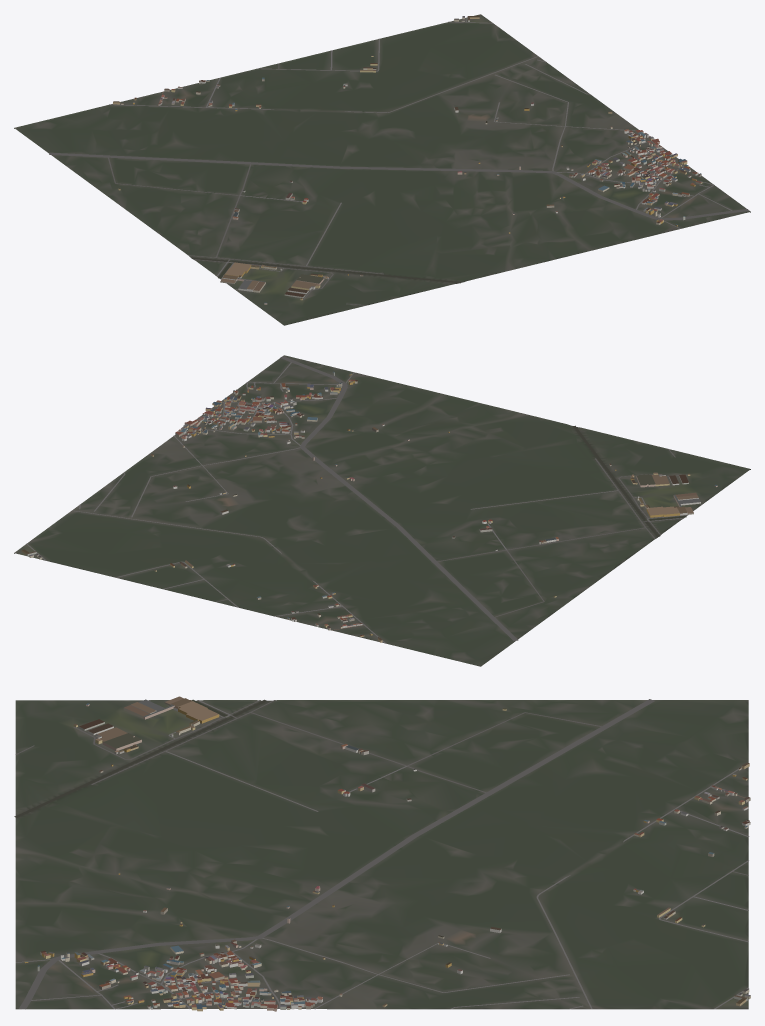
3 views of the same model, one above another, from view 1: azimuth 30°, elevation 25°; view 2: azimuth 150°, elevation 25°; view 3: azimuth 270°, elevation 25° (orthographic). The views are drawn at different scales.
Parts seen in each view (by area): view 1: ground, buildings, roads, water; view 2: ground, buildings, roads, water; view 3: ground, buildings, roads, water.
Boxes of the visible parts, <box> form: ground: <box>14,14,750,325</box>; buildings: <box>113,15,702,304</box>; roads: <box>49,17,748,305</box>; water: <box>191,257,461,283</box>; ground: <box>14,355,750,666</box>; buildings: <box>21,371,717,642</box>; roads: <box>26,356,701,643</box>; water: <box>572,425,686,536</box>; ground: <box>15,700,748,1009</box>; buildings: <box>24,696,750,1011</box>; roads: <box>15,699,749,1009</box>; water: <box>14,699,267,817</box>.
Bounding box in the file's own units: 1419 × 16.59 × 1409.
